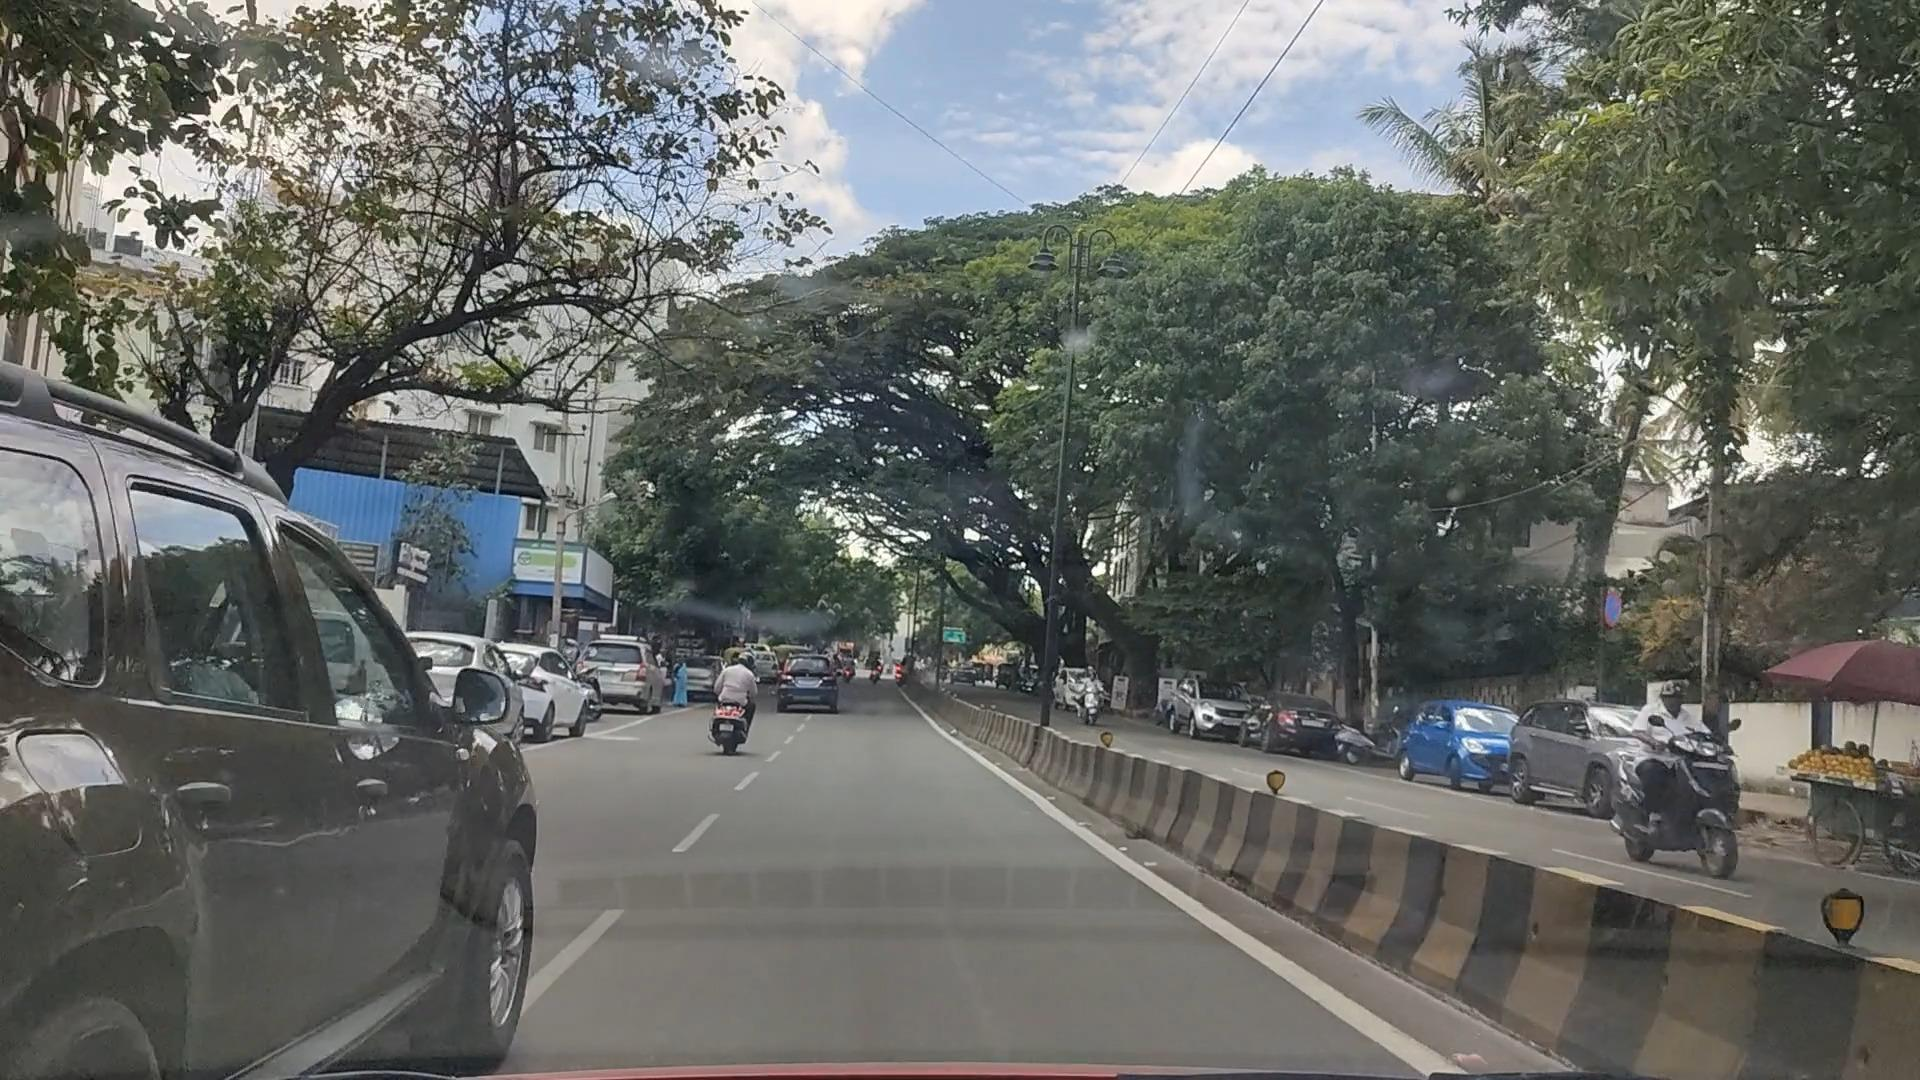LMV: (0, 356, 527, 1080)
